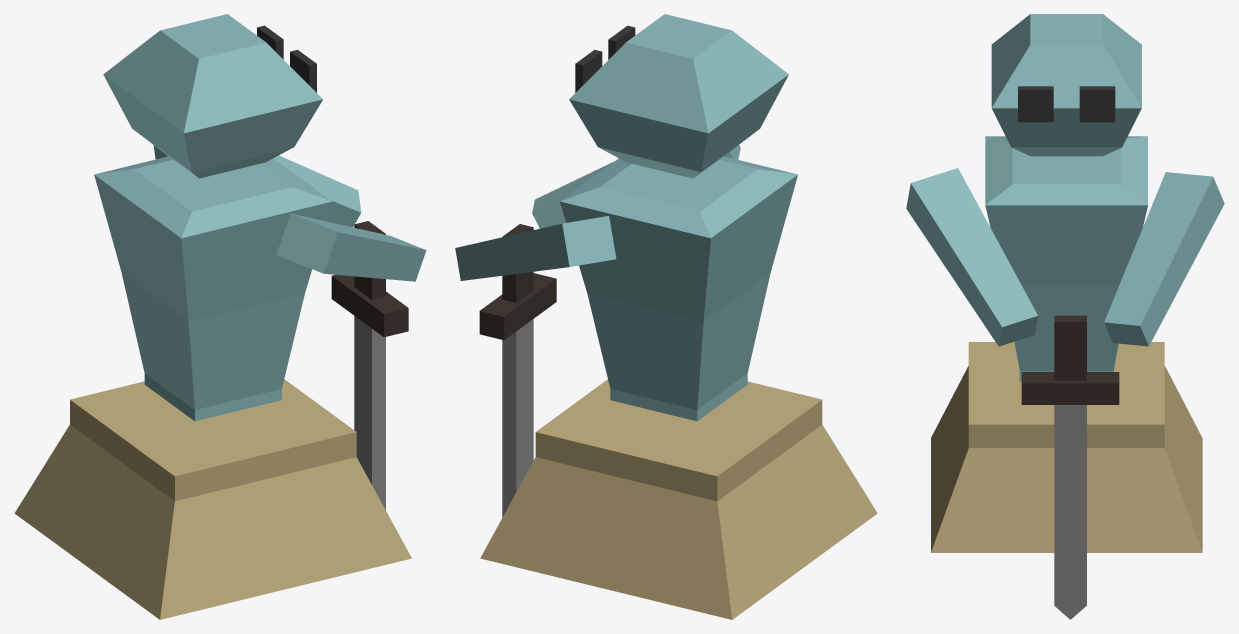
File: Anton.fbx
The picture shows the model from 3 angles, left to right: view 1: azimuth 30°, elevation 25°; view 2: azimuth 150°, elevation 25°; view 3: azimuth 270°, elevation 25°; orthographic projection. The views are drawn at different scales.
Parts seen in each view (by area): view 1: Stand, Body, Head, Sword, R_Arm, L_Arm, R_Eye; view 2: Stand, Body, Head, Sword, L_Arm, R_Arm, L_Eye; view 3: Stand, Body, Head, Sword, R_Arm, L_Arm, L_Eye, R_Eye.
Boxes of the visible parts, x1,y1,x2,y2 form: Stand: (14, 379, 411, 619); Body: (94, 156, 332, 421); Head: (103, 14, 322, 178); Sword: (331, 221, 408, 509); R_Arm: (276, 213, 426, 281); L_Arm: (153, 145, 361, 227); R_Eye: (290, 49, 316, 92); Stand: (480, 379, 877, 619); Body: (560, 156, 797, 421); Head: (569, 14, 788, 178); Sword: (479, 224, 556, 517); L_Arm: (455, 216, 616, 280); R_Arm: (532, 145, 740, 228); L_Eye: (575, 49, 602, 92); Stand: (931, 342, 1202, 552); Body: (985, 136, 1147, 381); Head: (991, 14, 1141, 156); Sword: (1021, 315, 1119, 619); R_Arm: (906, 168, 1037, 346); L_Arm: (1104, 172, 1224, 346); L_Eye: (1079, 86, 1115, 122); R_Eye: (1018, 86, 1053, 122).
Bounding box in the file's own units: 342 × 580 × 325.
